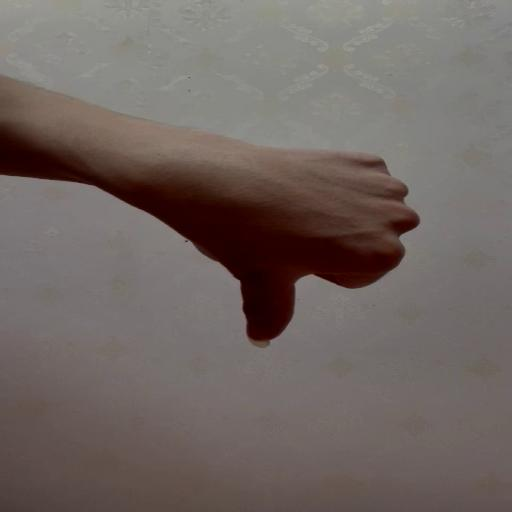thumbs_down: (176, 148, 420, 347)
